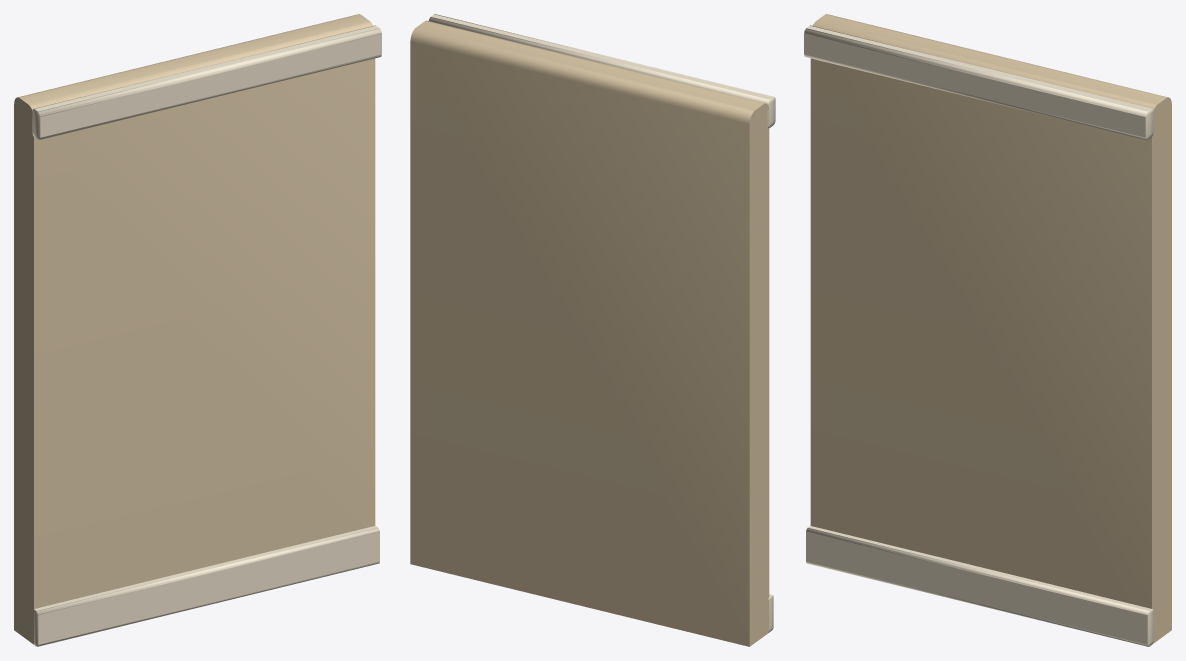
The model's file is Wall.glb.
3 renders of one model, left to right at view 1: azimuth 30°, elevation 25°; view 2: azimuth 150°, elevation 25°; view 3: azimuth 330°, elevation 25°, orthographic.
Visible parts, largest first — view 1: PBK_substrate.001, PBK_base_trim.001, PBK_floor_band.001; view 2: PBK_substrate.001, PBK_floor_band.001; view 3: PBK_substrate.001, PBK_base_trim.001, PBK_floor_band.001.
Part boxes in pixels (<box>): PBK_substrate.001: <box>14,14,375,644</box>; PBK_base_trim.001: <box>34,525,379,646</box>; PBK_floor_band.001: <box>32,25,381,140</box>; PBK_substrate.001: <box>410,20,769,646</box>; PBK_floor_band.001: <box>428,14,775,128</box>; PBK_substrate.001: <box>810,14,1171,643</box>; PBK_base_trim.001: <box>806,525,1153,646</box>; PBK_floor_band.001: <box>804,25,1153,140</box>.
Size of the model in its own units: 2 by 3 by 0.265.
